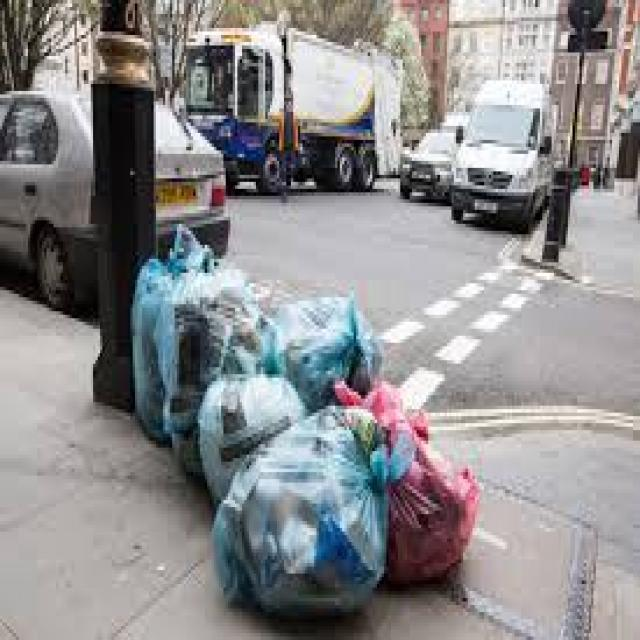garbage: (128, 220, 494, 630)
